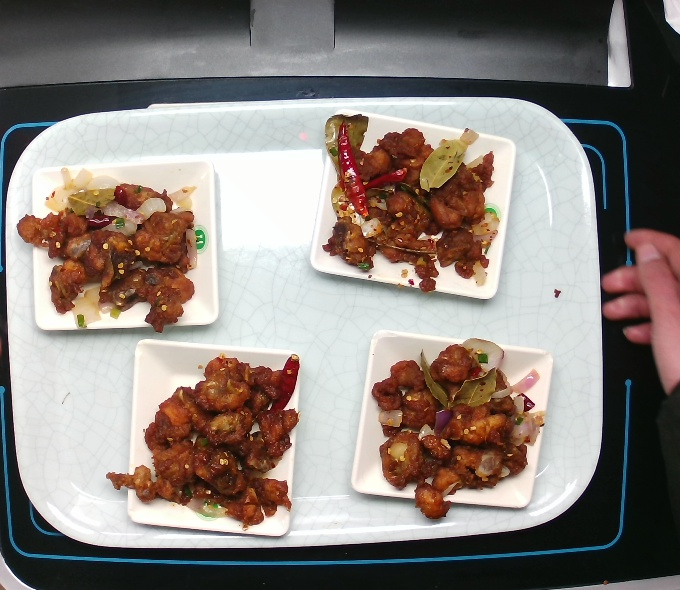wcq-LaZiJiKuai: (360, 335, 558, 524), (106, 343, 304, 532), (17, 159, 215, 348), (308, 107, 506, 296)
